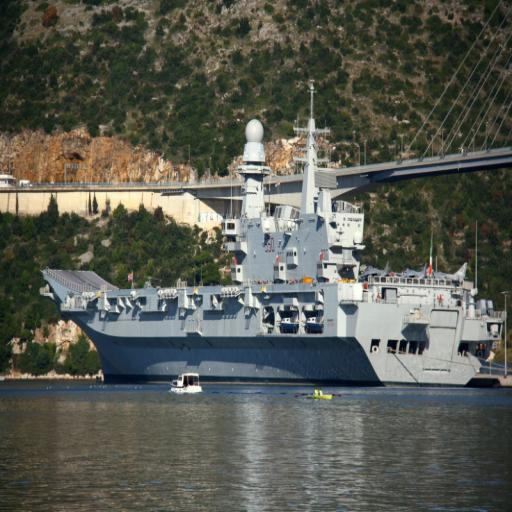Portanaves: (36, 87, 510, 399)
